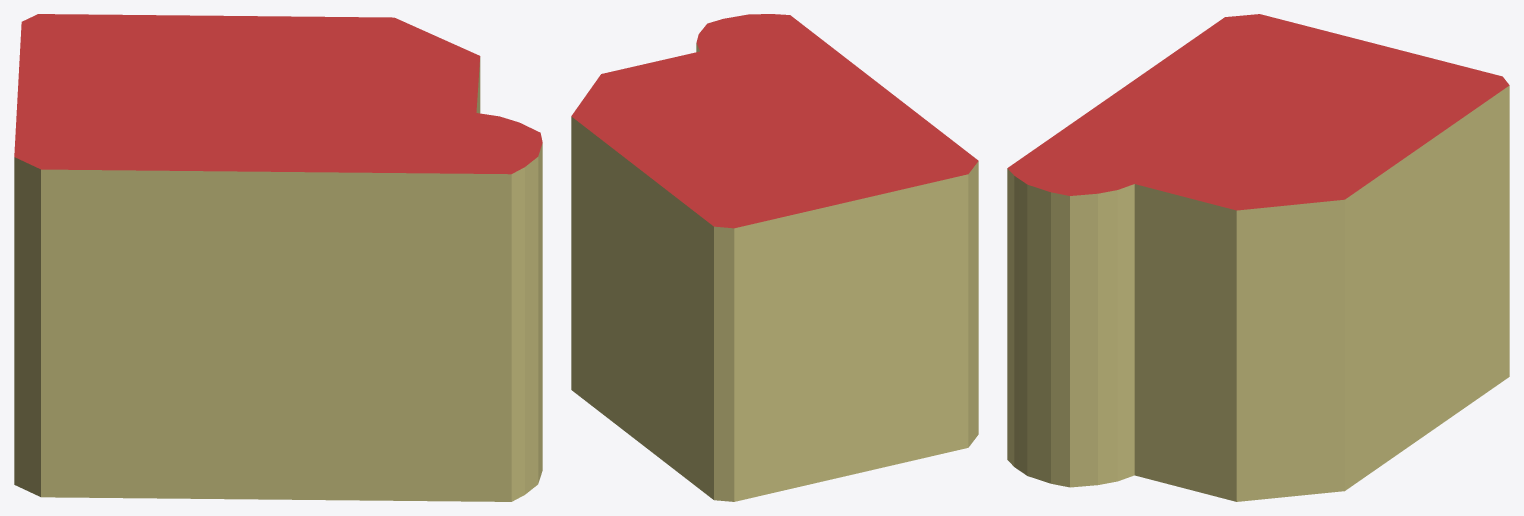
3 views of the same model, side by side, from view 1: azimuth 30°, elevation 25°; view 2: azimuth 150°, elevation 25°; view 3: azimuth 270°, elevation 25° (orthographic). The views are drawn at different scales.
Size of the model in its own units: 10.54 by 11.39 by 7.29.
